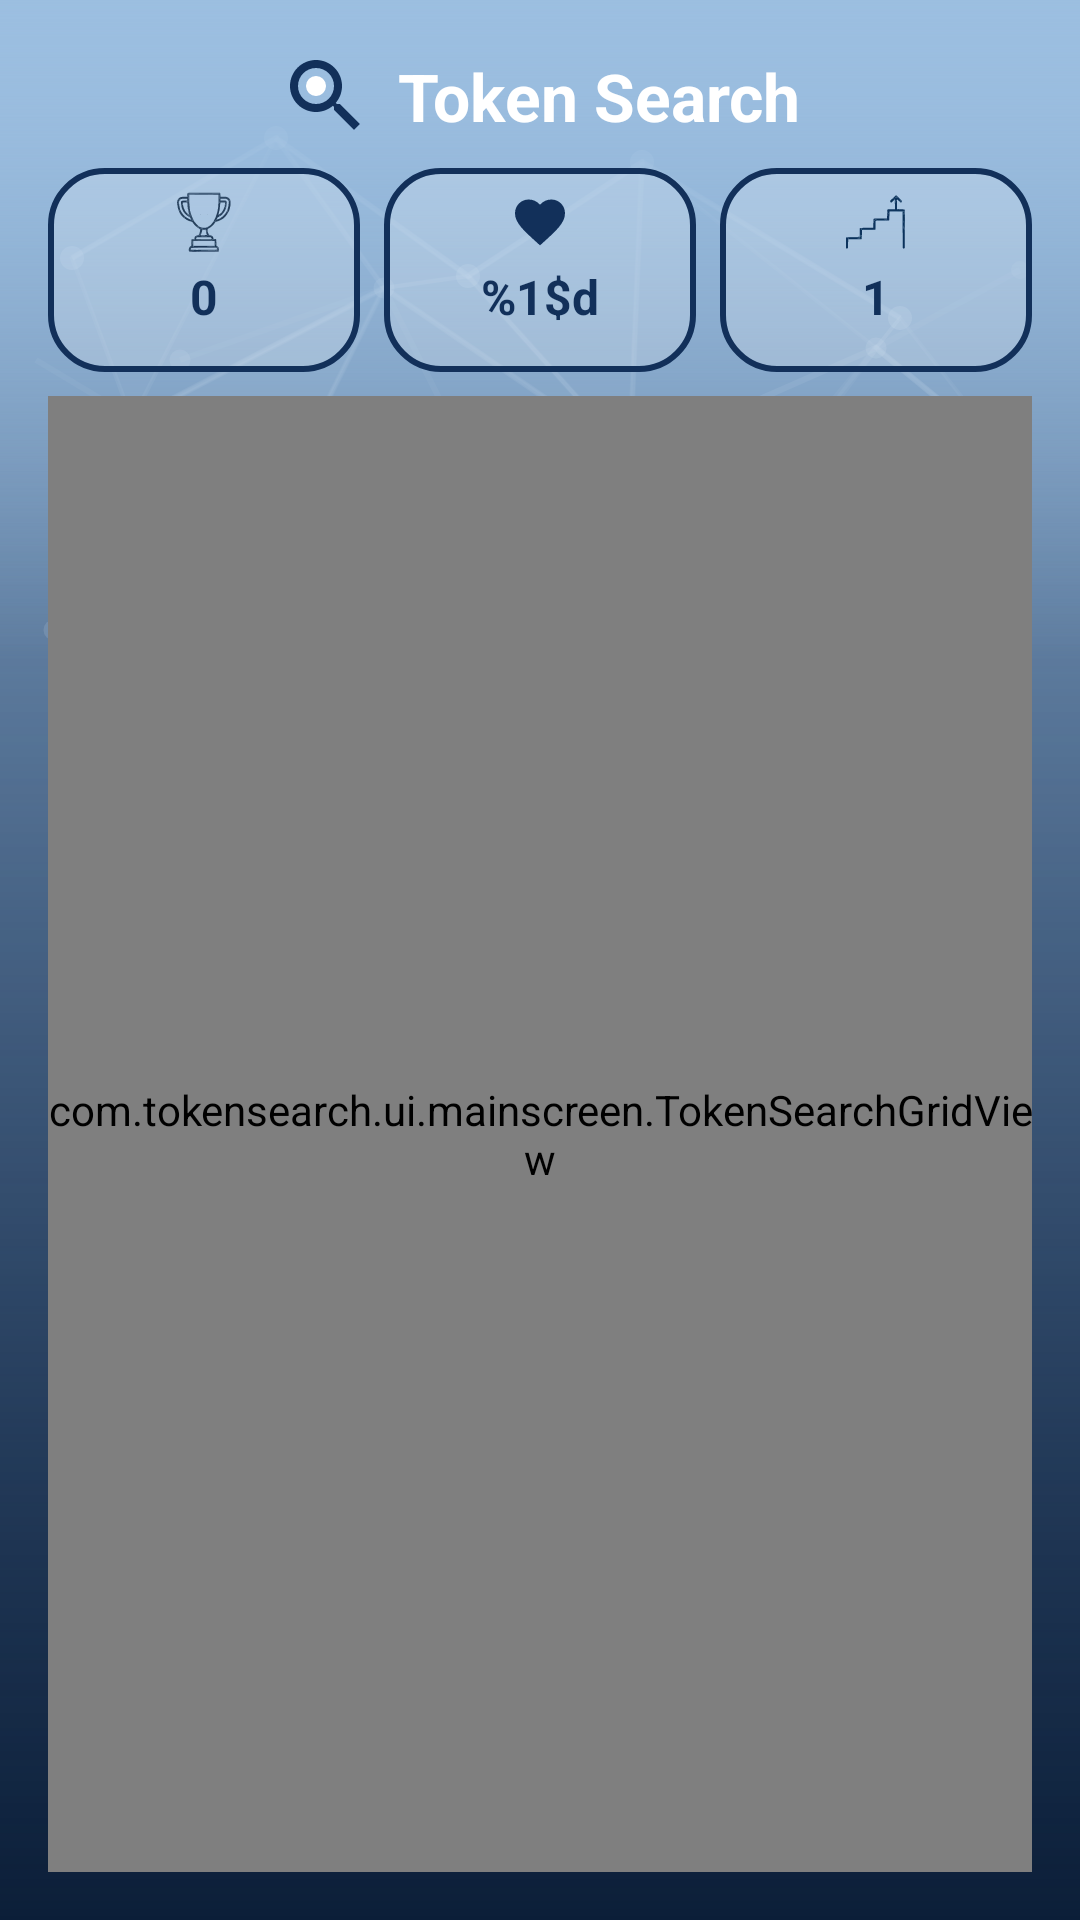

Point at icon controls on the screen. Image size 1080 × 1920, points as (x,y).
Level: (875,222)
Lives: (540,222)
SCORE: (204,222)
